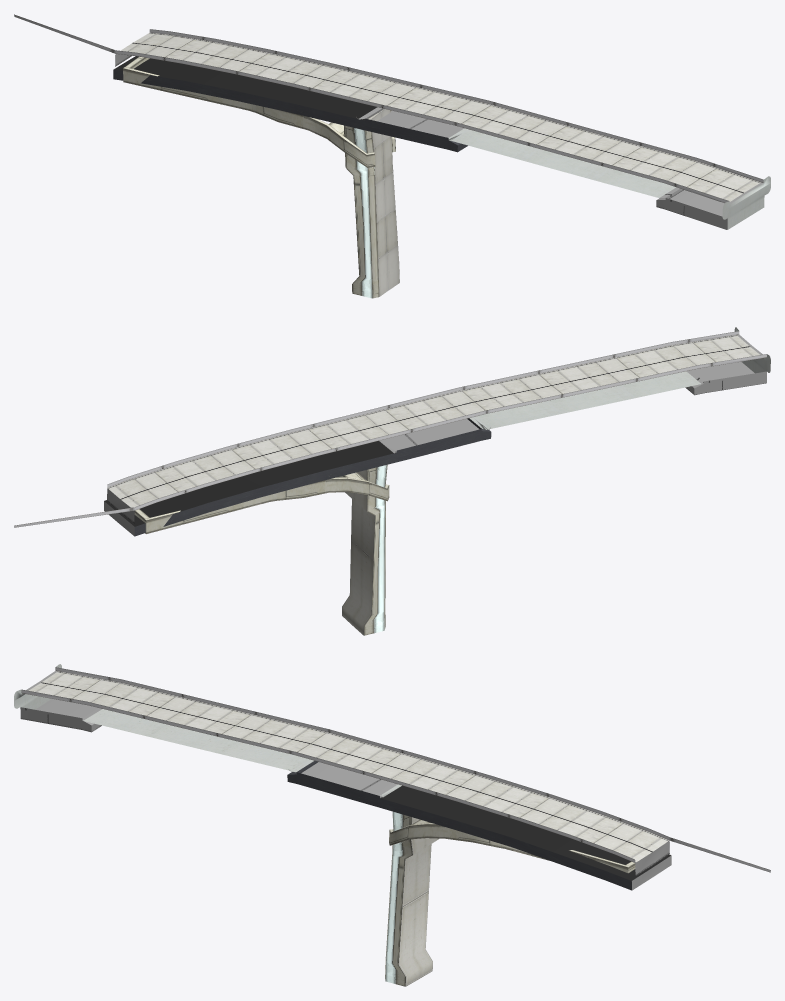
File: STA20_bridge03.FBX
3 renders of one model, top to bottom at view 1: azimuth 90°, elevation 25°; view 2: azimuth 150°, elevation 25°; view 3: azimuth 270°, elevation 25°, orthographic.
Parts seen in each view (by area): view 1: STA20_bridge03; view 2: STA20_bridge03; view 3: STA20_bridge03.
Part boxes in pixels (x1,y1,x2,y2): STA20_bridge03: (14,14,770,298); STA20_bridge03: (14,327,770,635); STA20_bridge03: (14,664,770,986).
Size of the model in its own units: 28.15 by 13.66 by 45.36.
